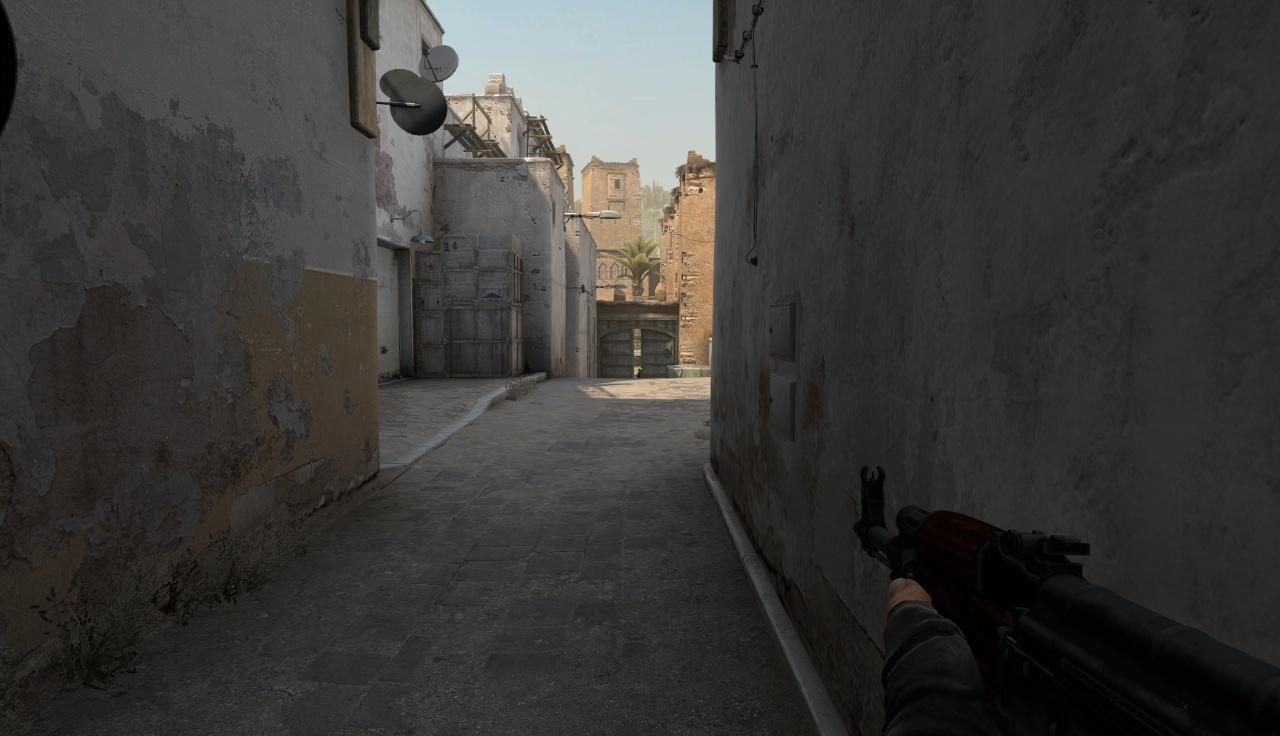ct: (636, 369, 641, 378)
cthead: (638, 369, 641, 373)
rifle: (855, 464, 1280, 736)
